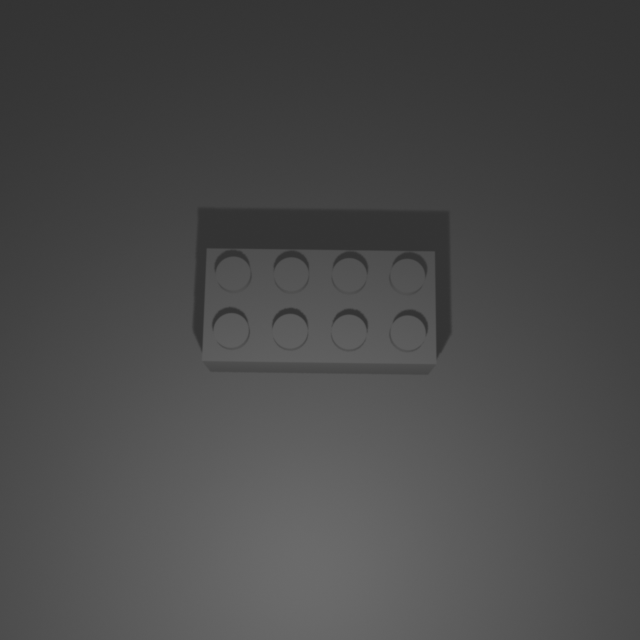lego_2x4: (200, 245, 438, 375)
